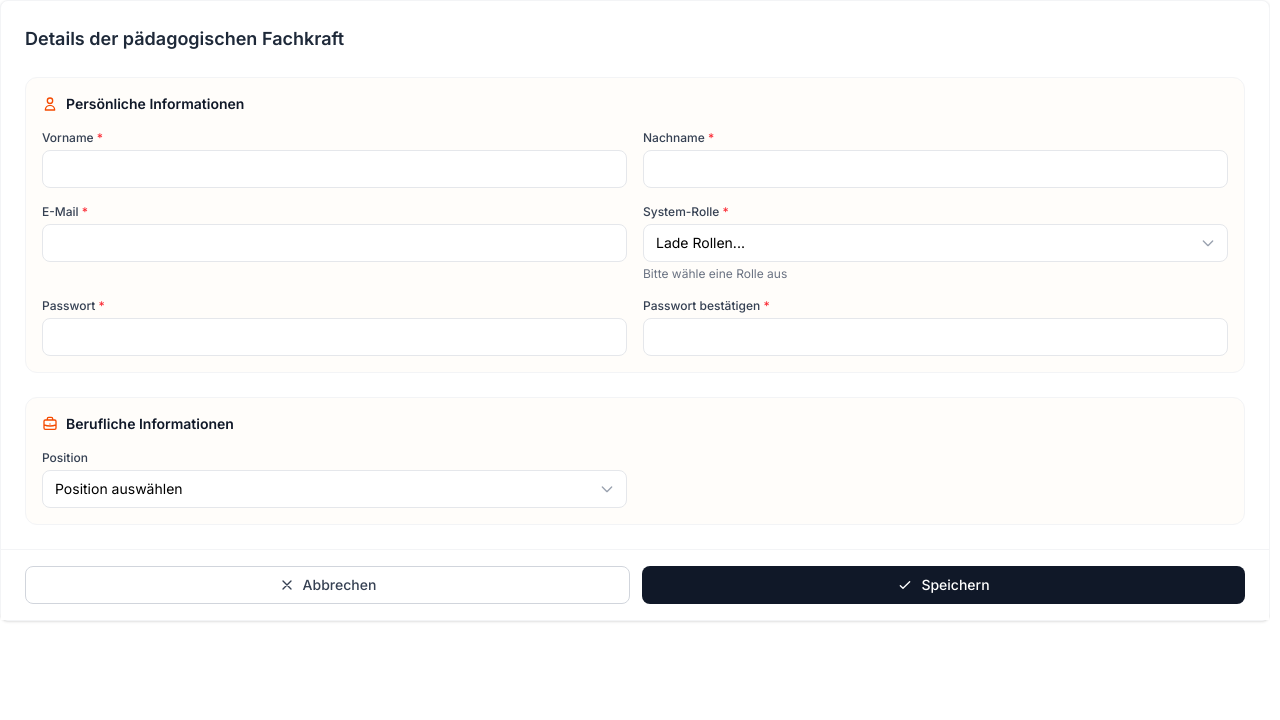
Test: TeacherForm › validates password requires uppercase
Type "John" into the field labelled "Vorname *". click: (334, 169)
box: [42,150,627,188]
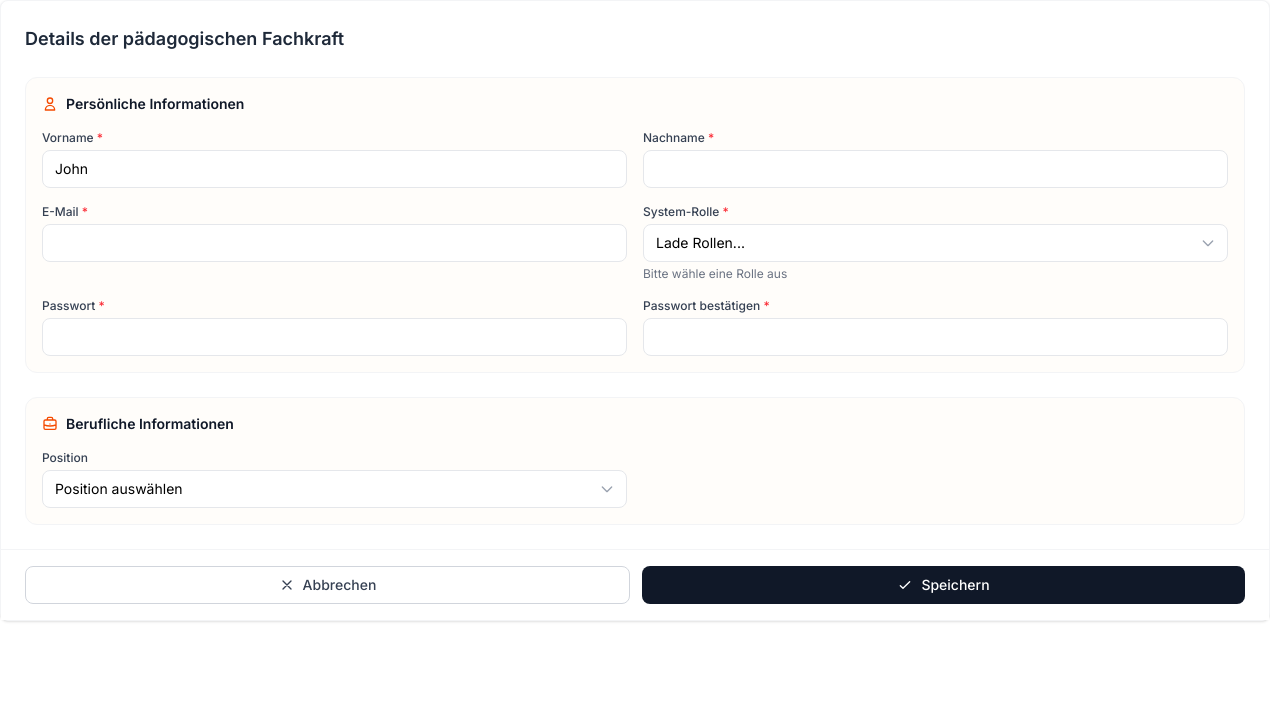
Type "Doe" into the field labelled "Nachname *". click: (936, 169)
box: [643,150,1228,188]
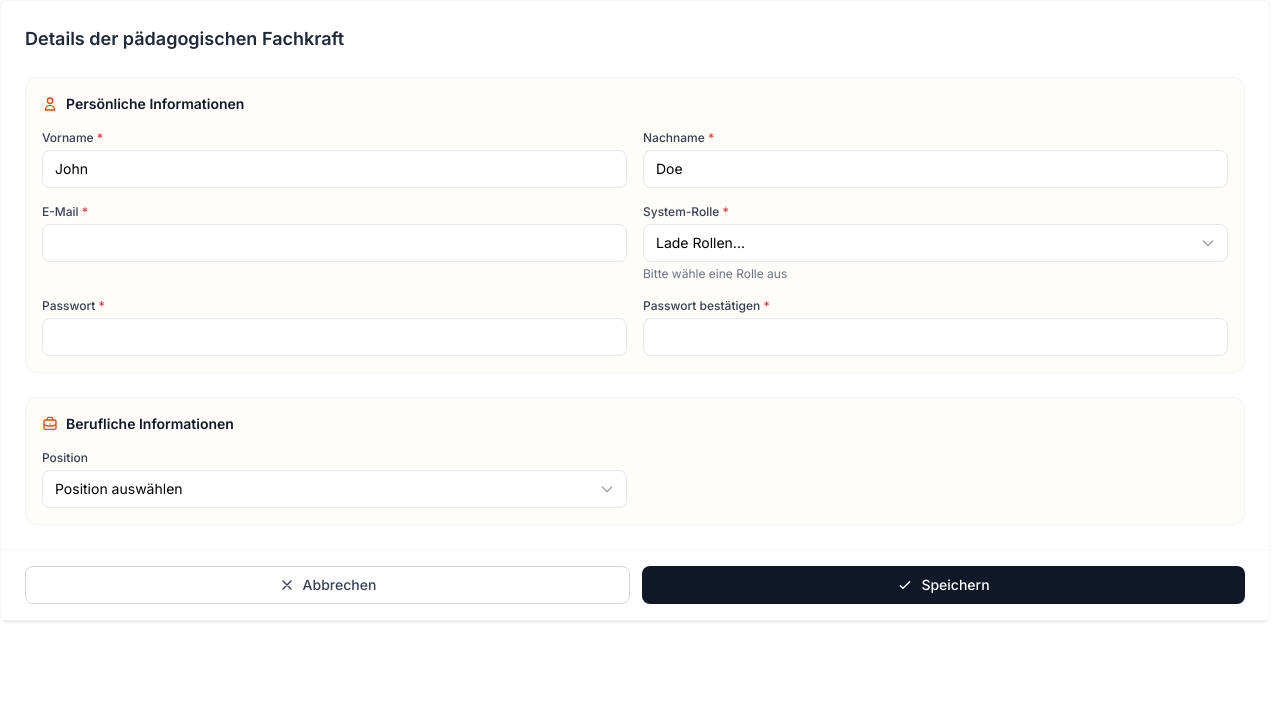
Type "john@example.com" into the field labelled "E-Mail *". click: (334, 243)
box: [42,224,627,262]
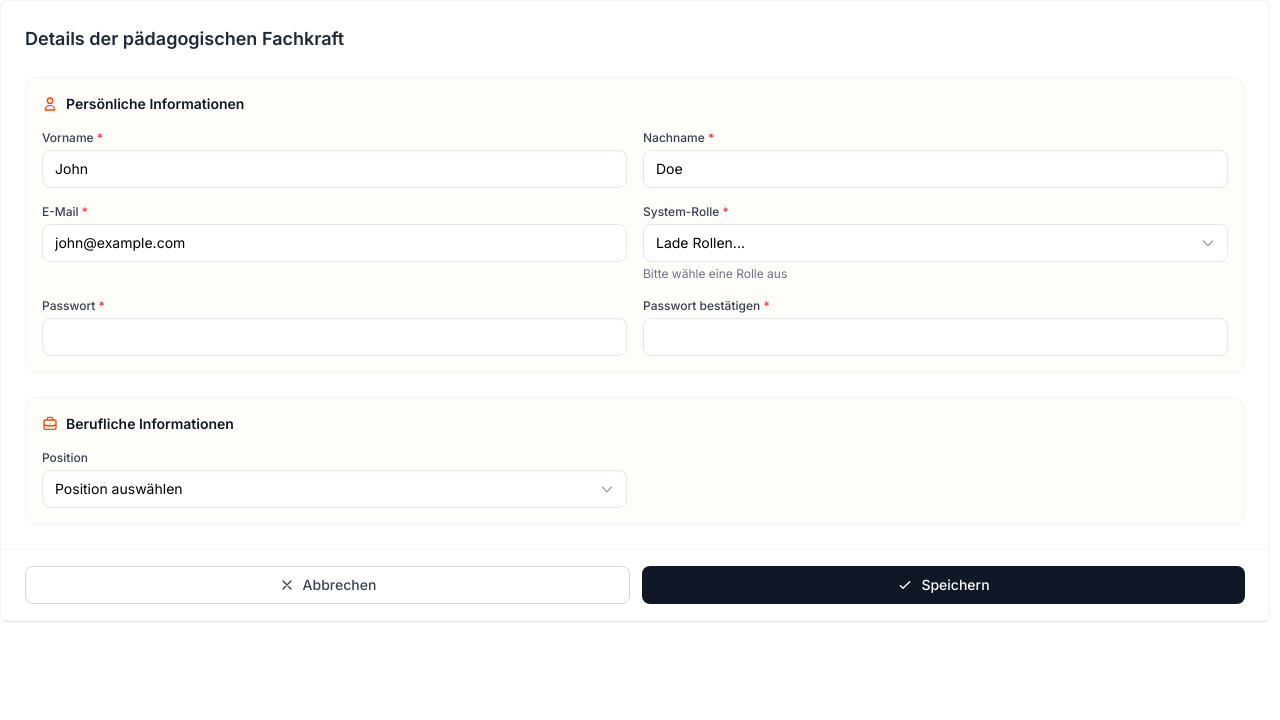
Type "alllowercase1!" into the password field labelled "Passwort *". click: (334, 337)
box: [42,318,627,356]
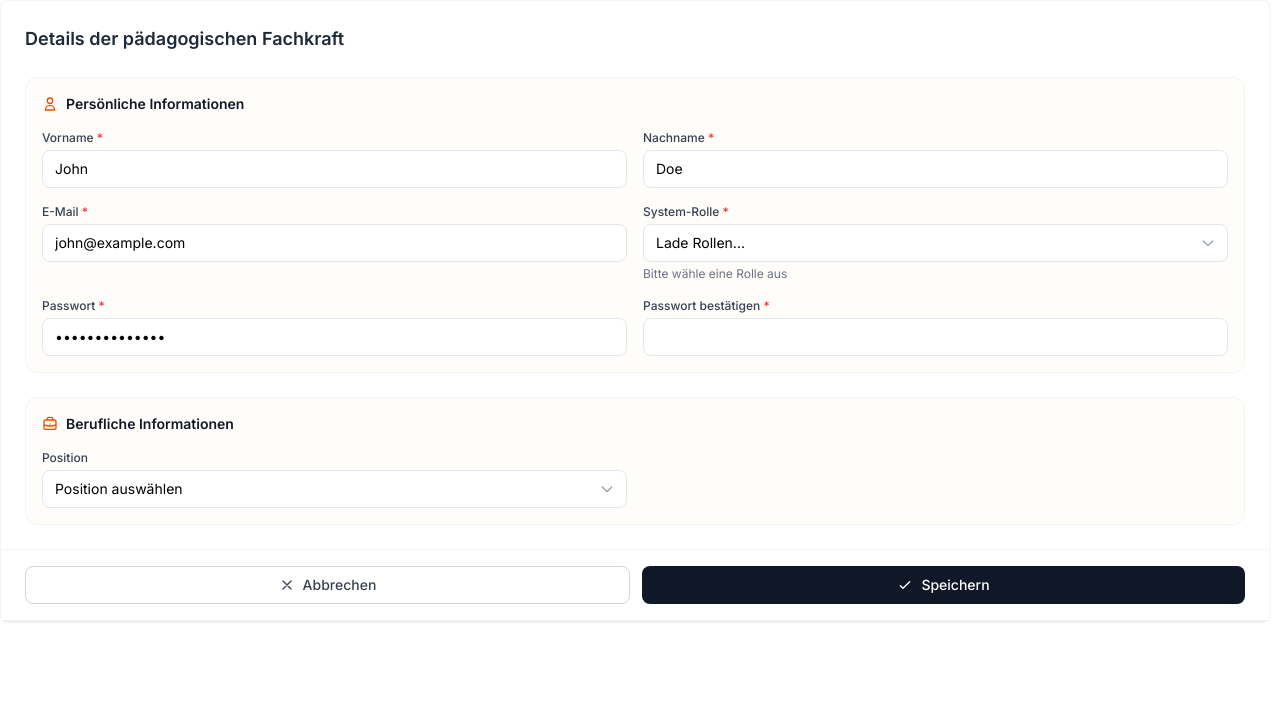
Click the button "Speichern". click: (944, 585)
box: [642,566,1245,604]
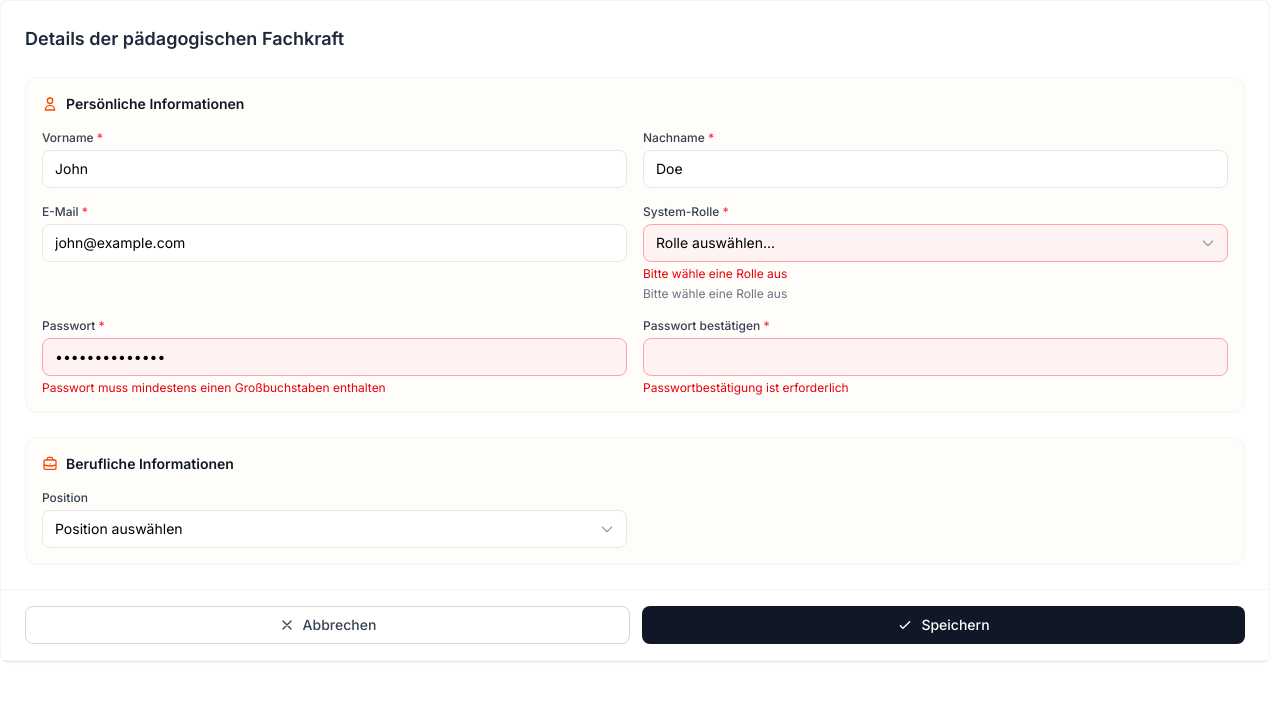
expect the text "Passwort muss mindestens einen Großbuchstaben enthalten" is shown: met, box [42,380,386,395]
